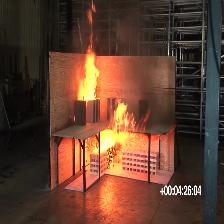fire: (100, 102, 150, 151), (78, 1, 99, 101)
